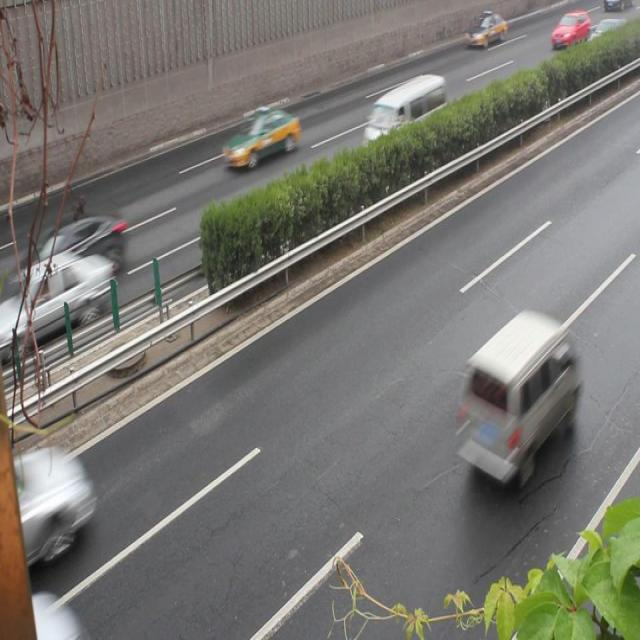car: (1, 444, 95, 572), (1, 250, 114, 352), (12, 218, 128, 294), (223, 110, 300, 170), (21, 583, 96, 640)
truck: (452, 312, 582, 490), (358, 75, 450, 156)
